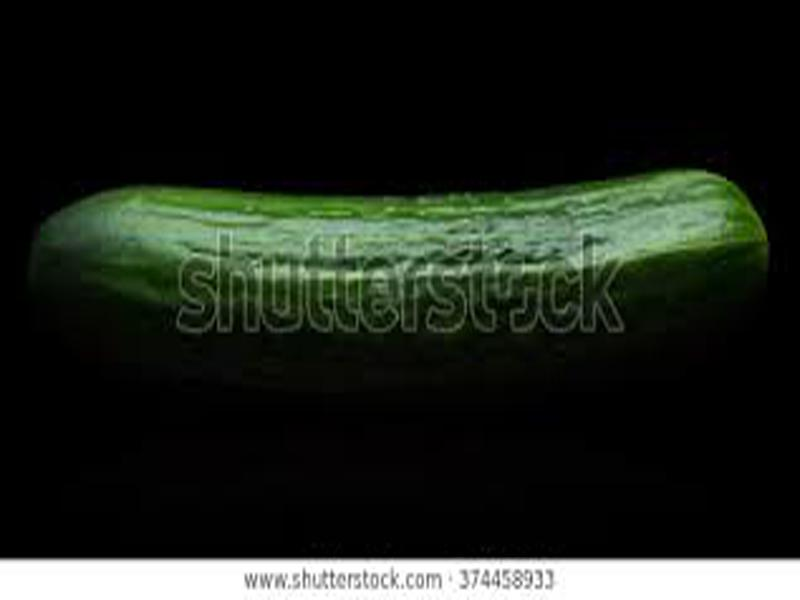Cucumber: (30, 174, 772, 340)
